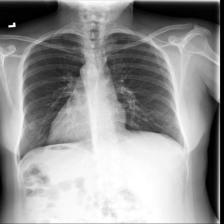normal: (13, 25, 189, 178)
